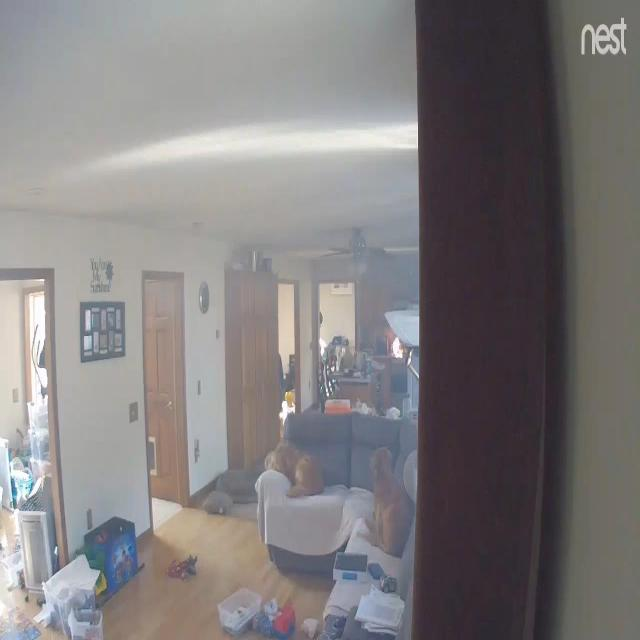fire: (392, 337, 403, 358)
